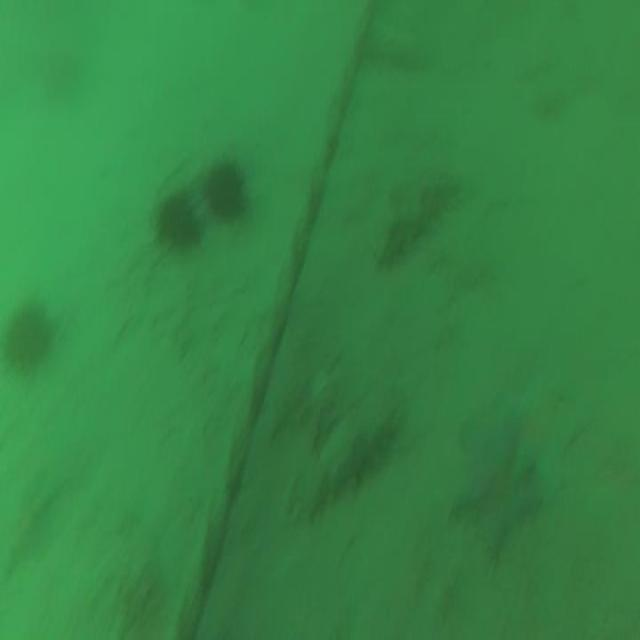echinus: (4, 300, 51, 368), (204, 162, 244, 228), (158, 198, 203, 251)
holothurian: (296, 396, 399, 516), (375, 164, 468, 264)
starfish: (452, 428, 538, 555), (508, 378, 588, 494)
